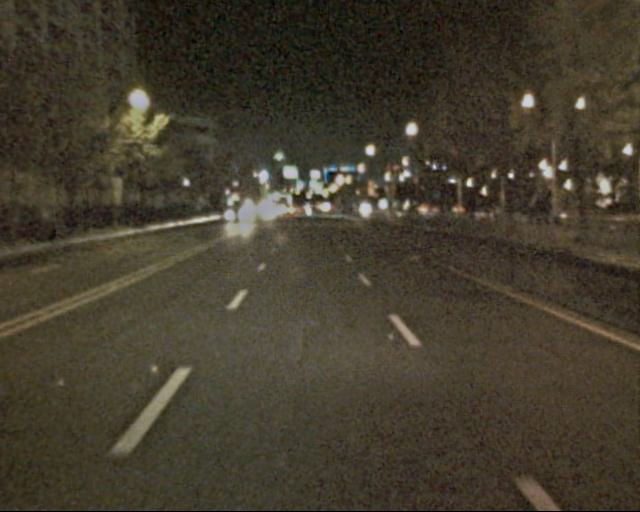person: (534, 183, 556, 239), (517, 186, 539, 235)
